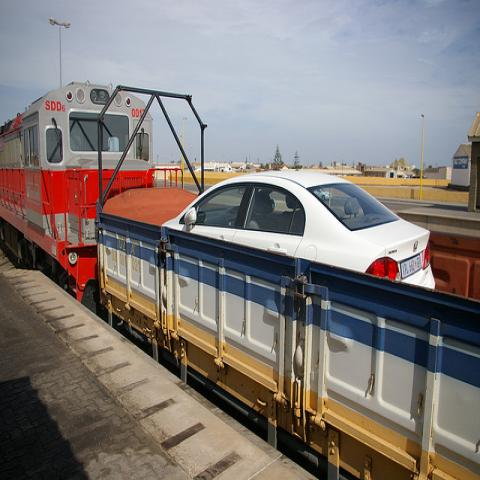car: (162, 168, 439, 294)
